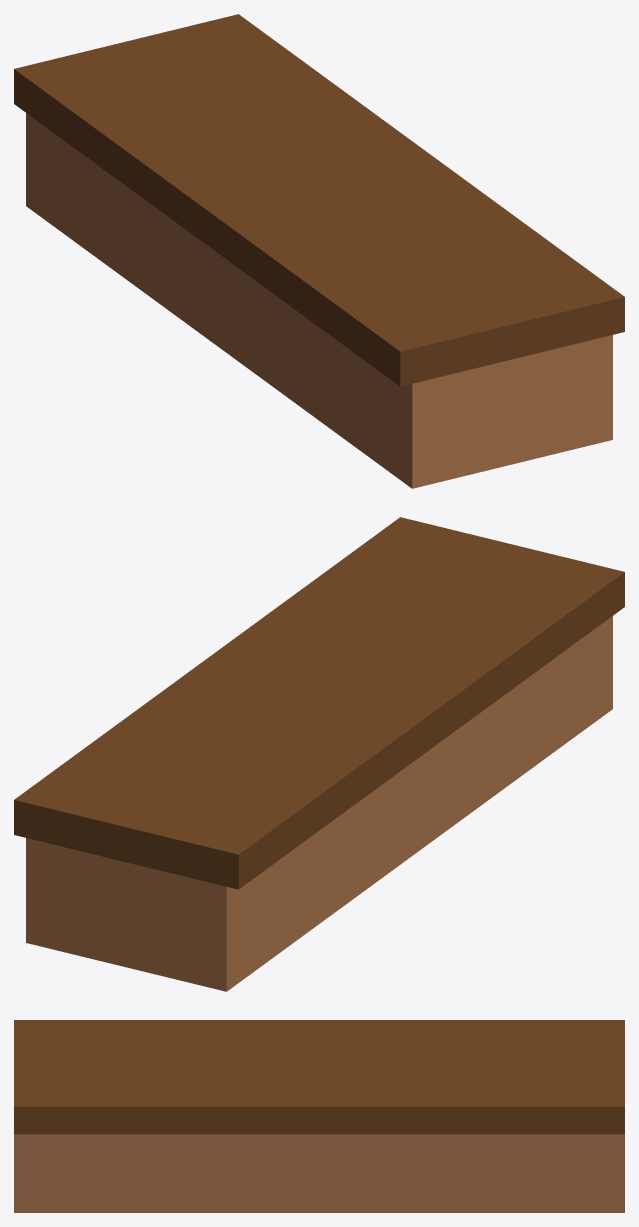
File: table2.fbx
The picture shows the model from 3 angles, top to bottom: view 1: azimuth 30°, elevation 25°; view 2: azimuth 150°, elevation 25°; view 3: azimuth 270°, elevation 25°; orthographic projection. The views are drawn at different scales.
Visible parts, largest first — view 1: Table2; view 2: Table2; view 3: Table2.
Part boxes in pixels (<box>): Table2: <box>14,14,624,488</box>; Table2: <box>14,517,624,991</box>; Table2: <box>14,1020,624,1212</box>.
Bounding box in the file's own units: 188 × 112 × 560.
